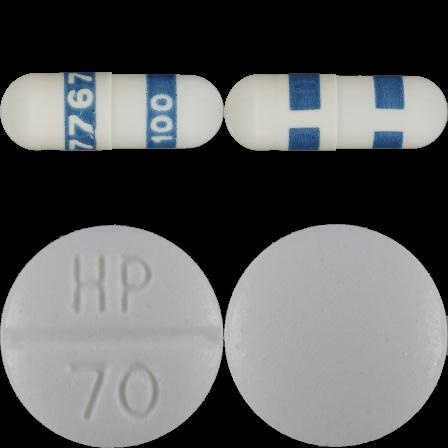68788-8924: (0, 0, 224, 224)
